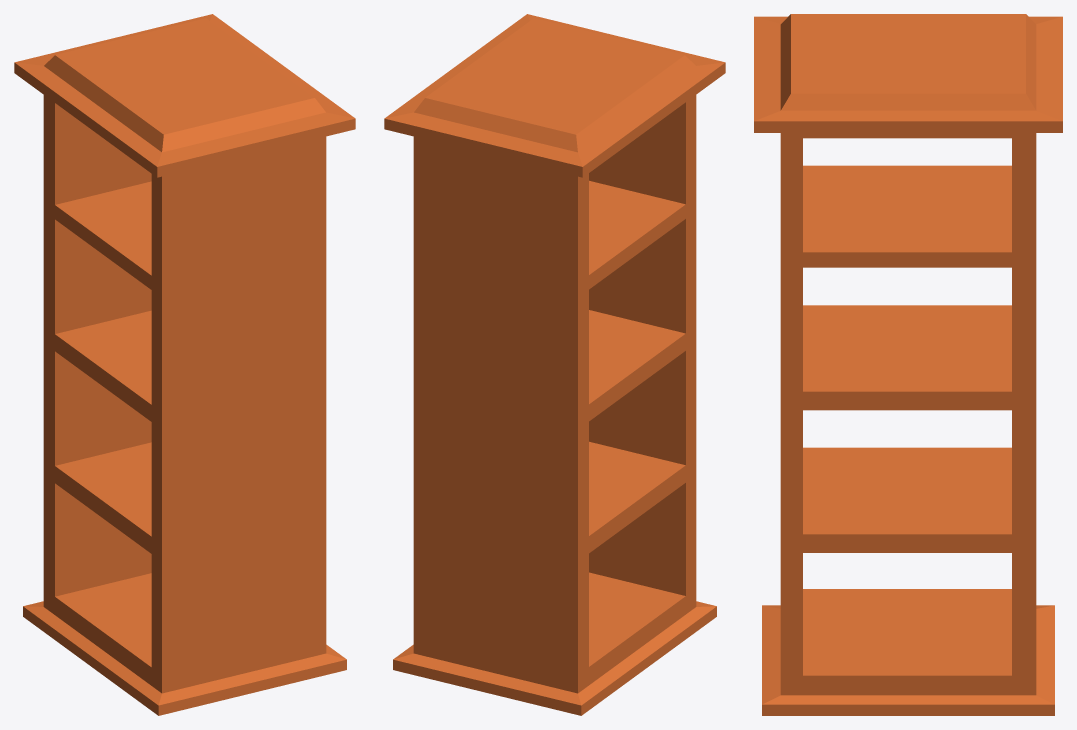
File: mueble.fbx
3 renders of one model, left to right at view 1: azimuth 30°, elevation 25°; view 2: azimuth 150°, elevation 25°; view 3: azimuth 270°, elevation 25°, orthographic. The views are drawn at different scales.
Visible parts, largest first — view 1: Cube; view 2: Cube; view 3: Cube.
Boxes of the visible parts, box(x1,y1,x2,y2) form: Cube: box(14, 14, 355, 715); Cube: box(384, 14, 725, 715); Cube: box(754, 14, 1062, 715).
Size of the model in its own units: 489 by 1336 by 610.
